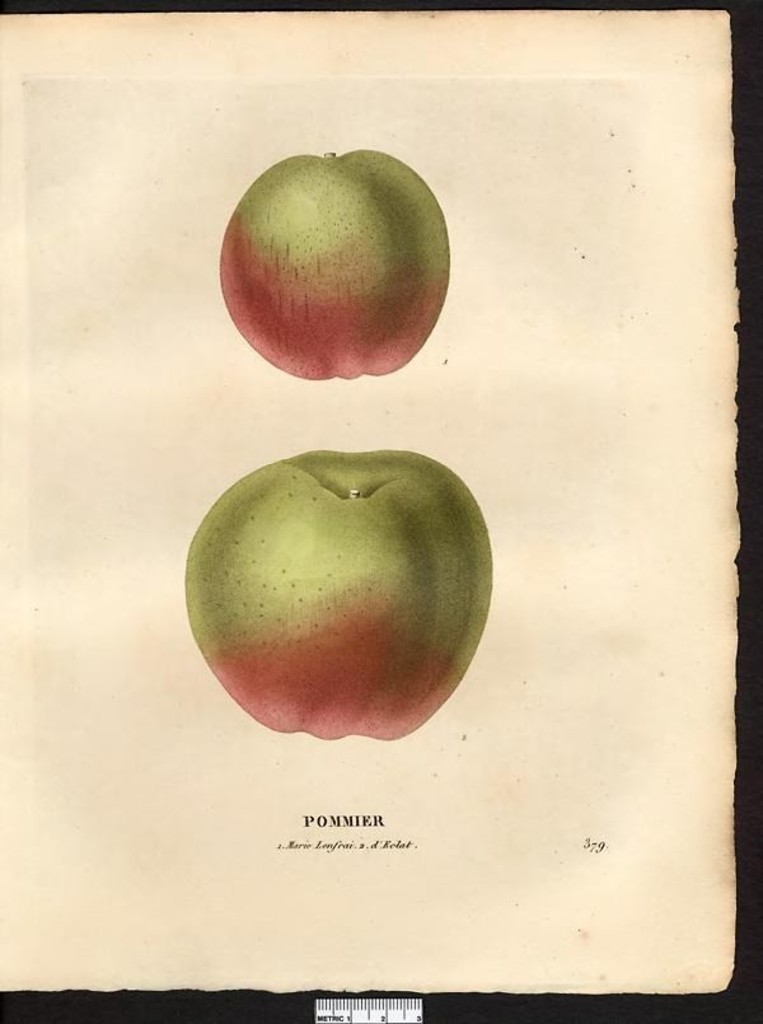Apple: (174, 450, 501, 749), (217, 138, 455, 381)
